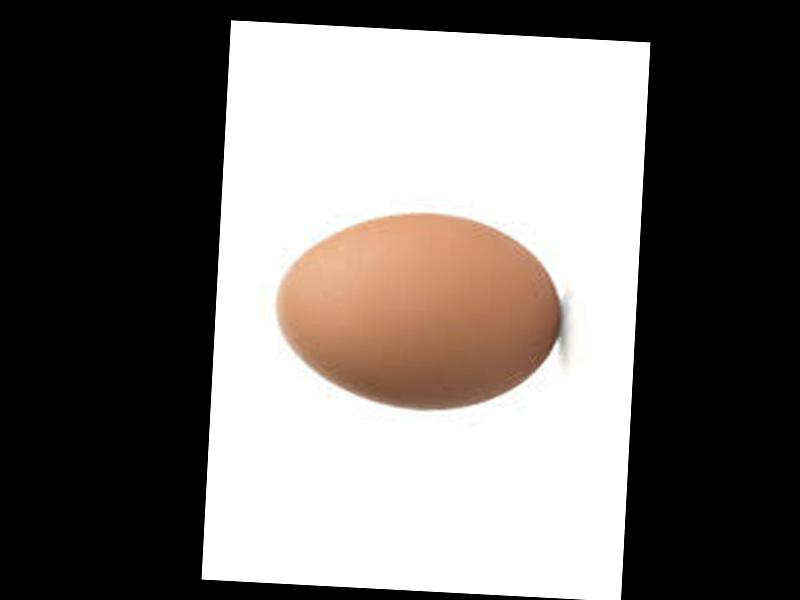Eggs: (274, 208, 567, 416)
